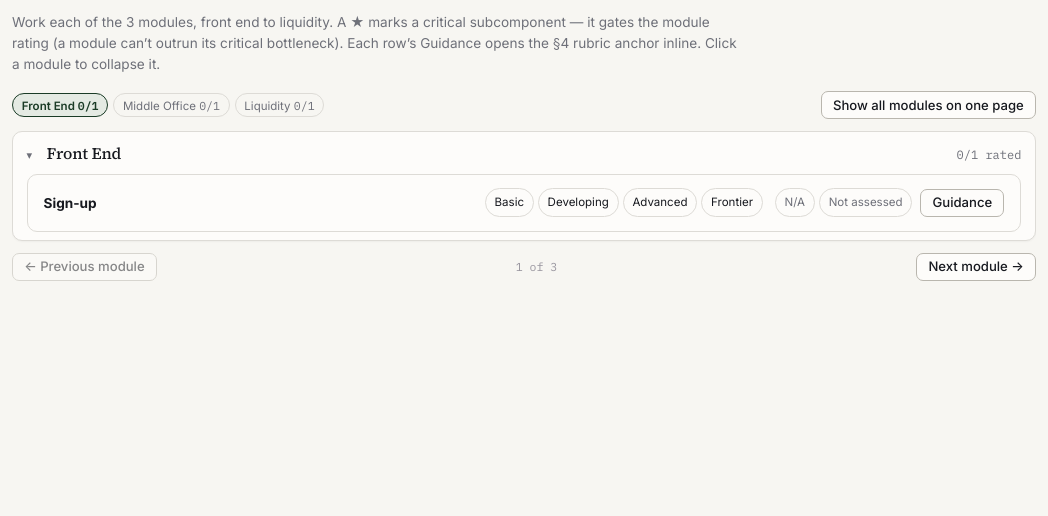
Test: Infrastructure step paging (GRS-0181) › the show-all escape hatch › returns every module to one page
Click the button "Show all modules on one page". click: (928, 105)
box: [821,91,1036,119]
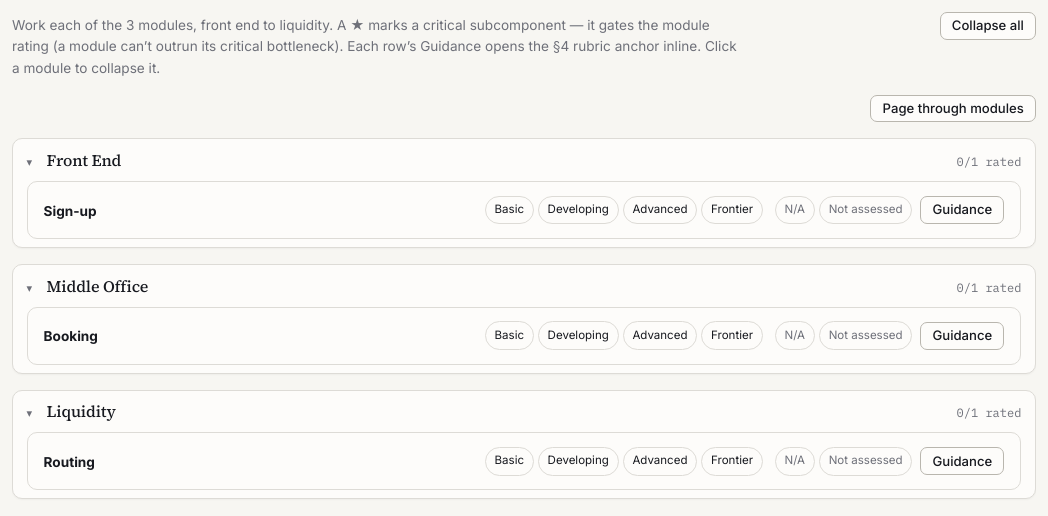
Expected: the text "Booking" is shown, [44,328,98,344]
Expected: the text "Routing" is shown, [44,454,95,470]
Expected: the button "Next module" is gone
